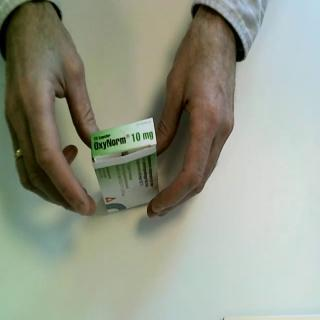oxynorm10mg: (90, 115, 162, 215)
